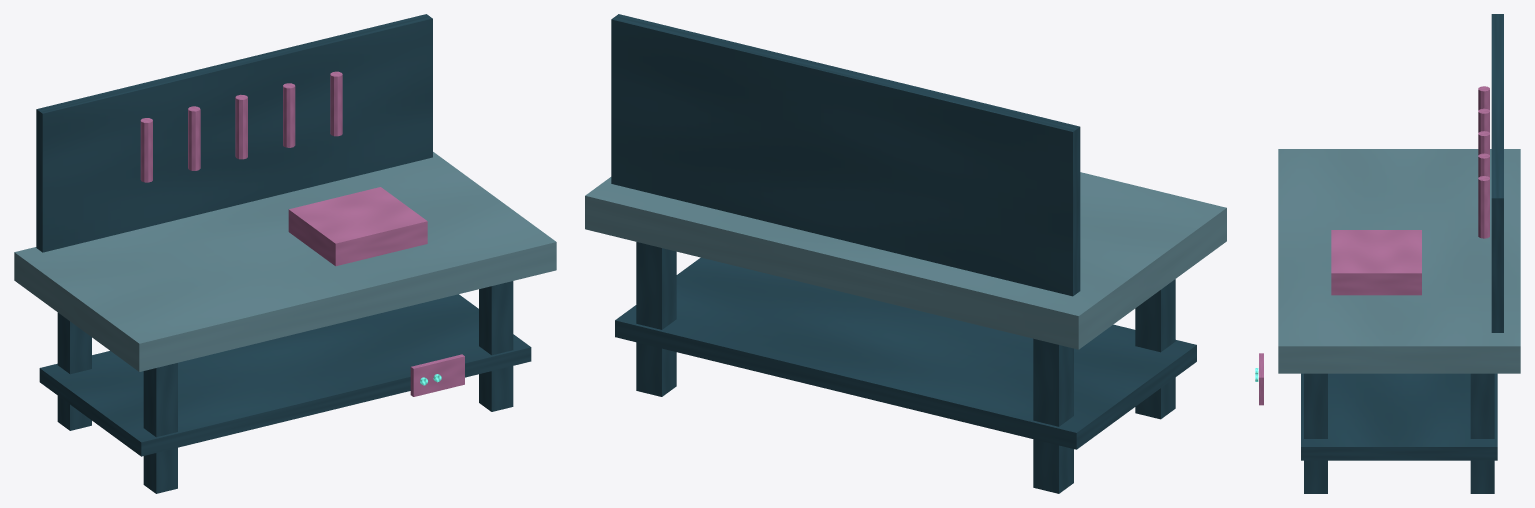
File: atlas100-s069-a06.glb
3 views of the same model, side by side, from view 1: azimuth 30°, elevation 25°; view 2: azimuth 150°, elevation 25°; view 3: azimuth 270°, elevation 25° (orthographic). The views are drawn at different scales.
Parts seen in each view (by area): view 1: atlas100-s069-a06:part-004, atlas100-s069-a06:part-006, atlas100-s069-a06:part-005, atlas100-s069-a06:part-012, atlas100-s069-a06:part-003, atlas100-s069-a06:part-001, atlas100-s069-a06:part-000, atlas100-s069-a06:part-013, atlas100-s069-a06:part-011, atlas100-s069-a06:part-010, atlas100-s069-a06:part-008, atlas100-s069-a06:part-009 (+1 smaller); view 2: atlas100-s069-a06:part-006, atlas100-s069-a06:part-005, atlas100-s069-a06:part-004, atlas100-s069-a06:part-000, atlas100-s069-a06:part-002, atlas100-s069-a06:part-001; view 3: atlas100-s069-a06:part-004, atlas100-s069-a06:part-005, atlas100-s069-a06:part-012, atlas100-s069-a06:part-006, atlas100-s069-a06:part-002, atlas100-s069-a06:part-003, atlas100-s069-a06:part-011.
Part boxes in pixels (x1,y1,x2,y2): atlas100-s069-a06:part-004: (14,152,556,371); atlas100-s069-a06:part-006: (36,14,432,252); atlas100-s069-a06:part-005: (39,294,531,456); atlas100-s069-a06:part-012: (288,187,427,266); atlas100-s069-a06:part-003: (479,281,513,411); atlas100-s069-a06:part-001: (143,363,177,493); atlas100-s069-a06:part-000: (57,312,91,430); atlas100-s069-a06:part-013: (410,354,464,396); atlas100-s069-a06:part-011: (330,71,342,136); atlas100-s069-a06:part-010: (283,83,295,147); atlas100-s069-a06:part-008: (188,106,200,170); atlas100-s069-a06:part-009: (235,94,247,159); atlas100-s069-a06:part-006: (611,14,1080,296); atlas100-s069-a06:part-005: (615,257,1196,449); atlas100-s069-a06:part-004: (585,172,1226,349); atlas100-s069-a06:part-000: (1033,338,1073,493); atlas100-s069-a06:part-002: (636,242,676,396); atlas100-s069-a06:part-001: (1135,279,1175,419); atlas100-s069-a06:part-004: (1278,149,1520,373); atlas100-s069-a06:part-005: (1301,373,1497,460); atlas100-s069-a06:part-012: (1331,230,1421,295); atlas100-s069-a06:part-006: (1491,14,1503,332); atlas100-s069-a06:part-002: (1470,373,1494,493); atlas100-s069-a06:part-003: (1304,373,1327,493); atlas100-s069-a06:part-011: (1478,176,1489,238).
Size of the model in its own units: 3.08 by 2.21 by 1.75.
4 materials, 4 textured.
